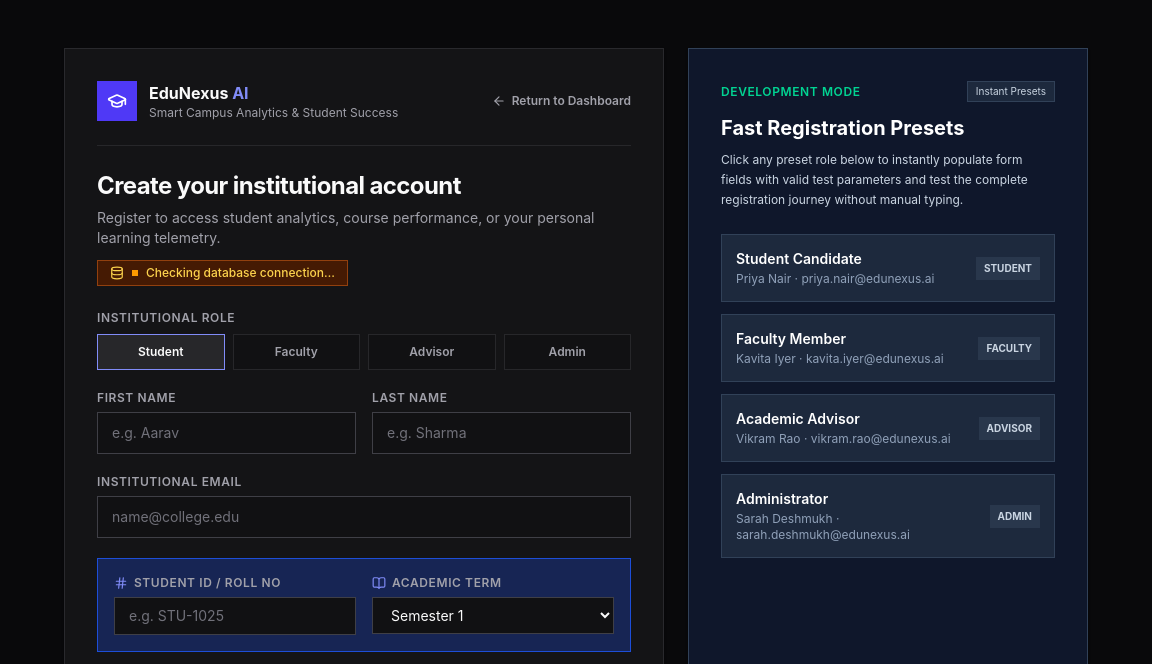
Test case: RegisterPage Component › displays role-specific fields when Student is selected and hides them for Faculty
Expected: the field labelled "Student ID / Roll No" is shown, [114,597,356,635]
Expected: the dropdown labelled "Academic Term" is shown, [372,597,614,634]
# Switch to Faculty
Click the button "Faculty" at (296, 352), box [232,334,360,370]
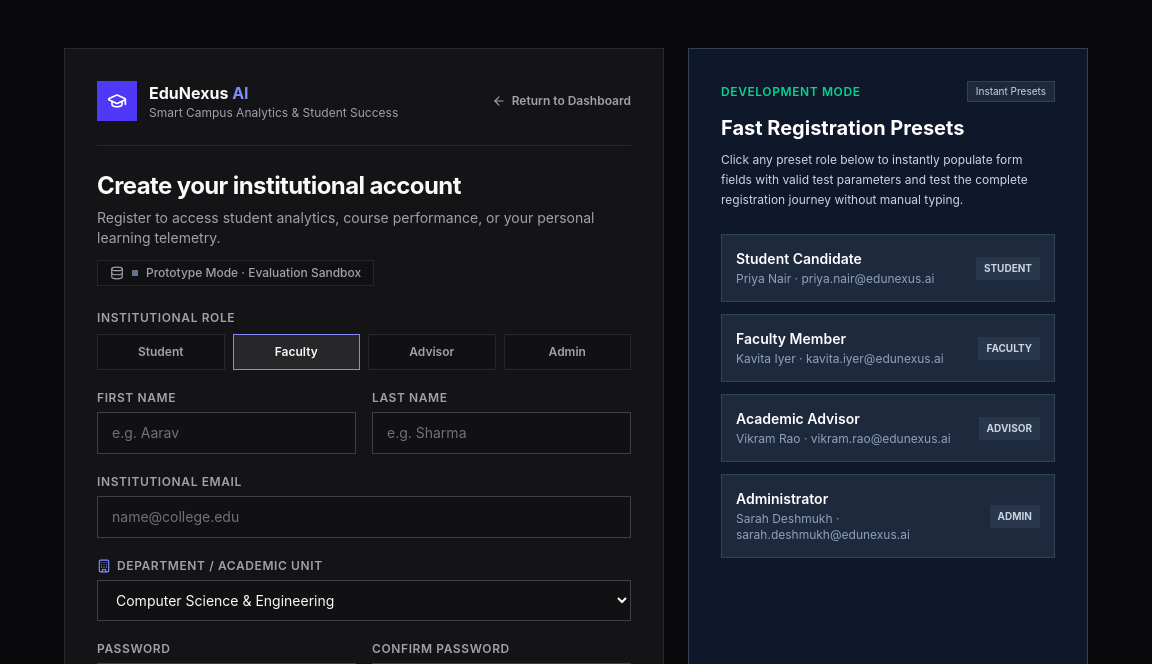
Expected: the label labelled "Student ID / Roll No" is gone
Expected: the label labelled "Academic Term" is gone
